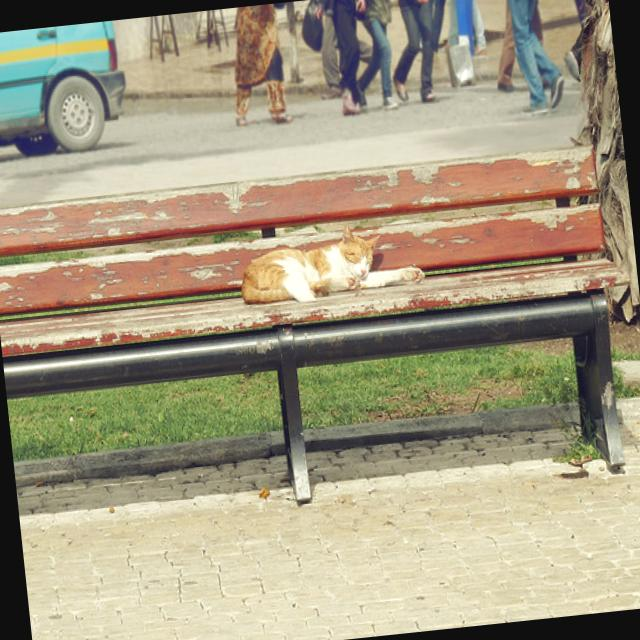Vehicle: (0, 19, 131, 167)
